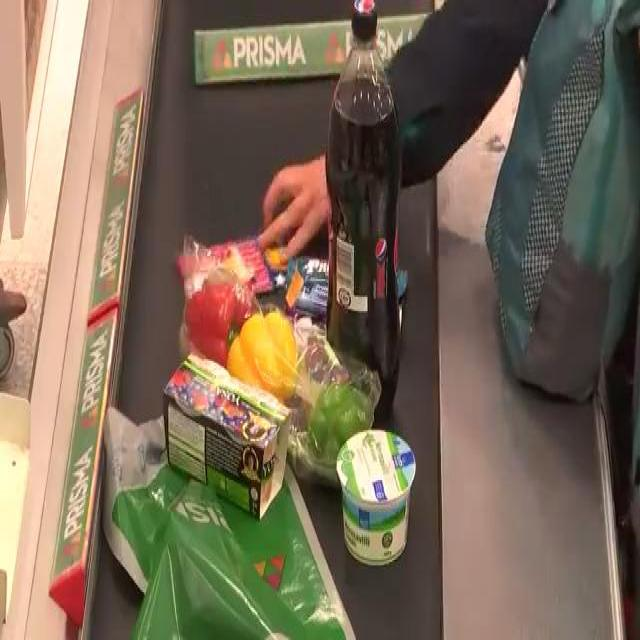beverage: (322, 0, 402, 400)
food-box: (155, 360, 285, 504), (342, 427, 413, 569)
utility-box: (98, 407, 360, 640), (182, 243, 292, 297)
vegetable: (184, 262, 378, 484)
